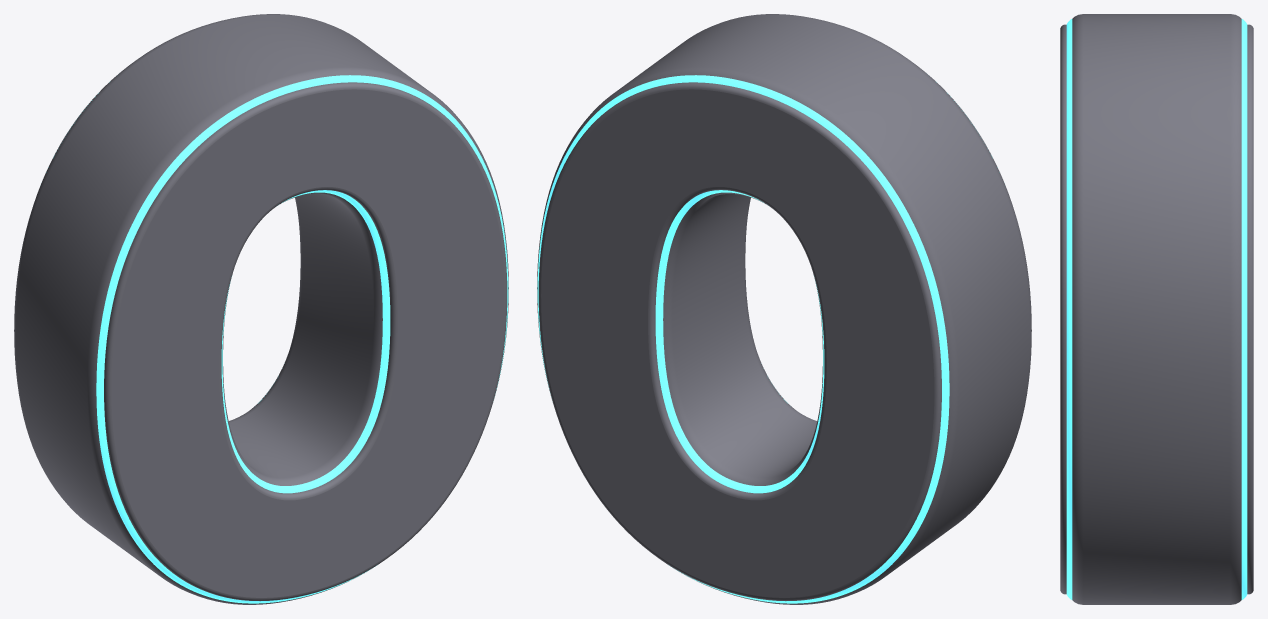
The picture shows the model from 3 angles, left to right: view 1: azimuth 30°, elevation 25°; view 2: azimuth 150°, elevation 25°; view 3: azimuth 270°, elevation 25°; orthographic projection. The views are drawn at different scales.
Parts seen in each view (by area): view 1: N_0_smaller, N_0_side, N_0_border; view 2: N_0_smaller, N_0_side, N_0_border; view 3: N_0_side, N_0_border, N_0_smaller.
Boxes of the visible parts, <box> form: N_0_smaller: <box>37,65,507,601</box>; N_0_side: <box>14,14,508,604</box>; N_0_border: <box>46,75,508,603</box>; N_0_smaller: <box>538,65,1008,601</box>; N_0_side: <box>537,14,1031,604</box>; N_0_border: <box>537,75,999,603</box>; N_0_side: <box>1072,14,1241,604</box>; N_0_border: <box>1066,19,1247,599</box>; N_0_smaller: <box>1060,24,1253,594</box>.
Bounding box in the file's own units: 47.71 × 56.95 × 18.4.
